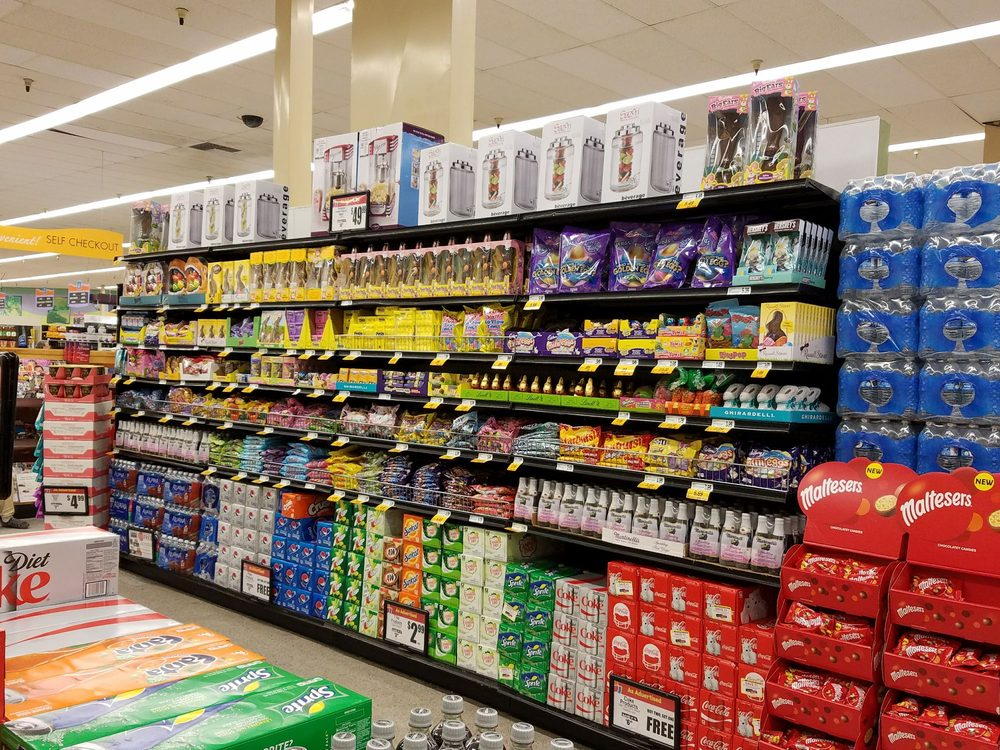maltesers: (899, 642, 939, 660), (836, 627, 871, 645)
